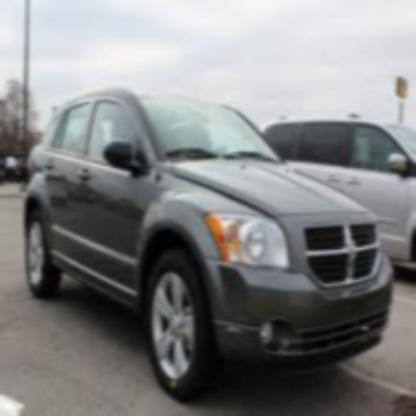Vehicle: (23, 86, 401, 405)
